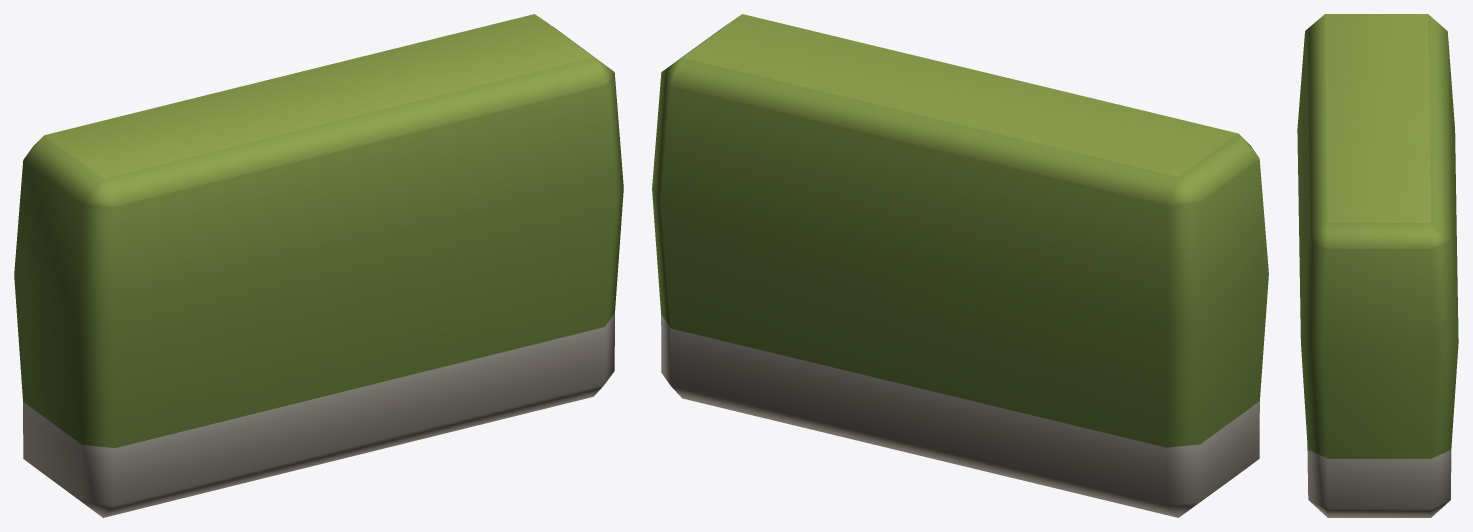
The model's file is hedge_rooftop_2x05_high.fbx.
The picture shows the model from 3 angles, left to right: view 1: azimuth 30°, elevation 25°; view 2: azimuth 150°, elevation 25°; view 3: azimuth 270°, elevation 25°; orthographic projection. The views are drawn at different scales.
Visible parts, largest first — view 1: hedge_rooftop_2x05_high; view 2: hedge_rooftop_2x05_high; view 3: hedge_rooftop_2x05_high.
Part boxes in pixels (x1,y1,x2,y2): hedge_rooftop_2x05_high: [14, 14, 623, 517]; hedge_rooftop_2x05_high: [652, 14, 1268, 517]; hedge_rooftop_2x05_high: [1297, 14, 1458, 517].
Size of the model in its own units: 211 by 125 by 61.85.
